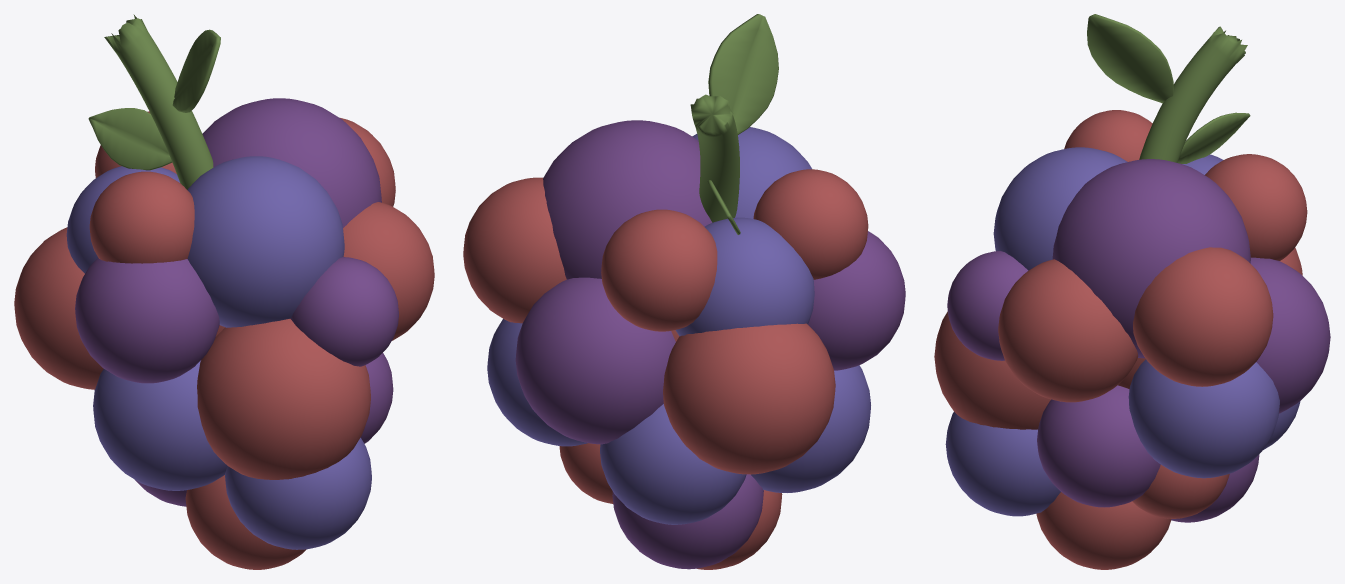
File: berry_good (1).fbx
3 renders of one model, left to right at view 1: azimuth 30°, elevation 25°; view 2: azimuth 150°, elevation 25°; view 3: azimuth 270°, elevation 25°, orthographic. The views are drawn at different scales.
Parts seen in each view (by area): view 1: leaf; view 2: leaf; view 3: leaf.
Boxes of the visible parts, left/top/right/bottom form: leaf: left=14, top=14, right=434, bottom=569; leaf: left=463, top=14, right=905, bottom=569; leaf: left=934, top=14, right=1330, bottom=569.
Bounding box in the file's own units: 126 × 182 × 124.
